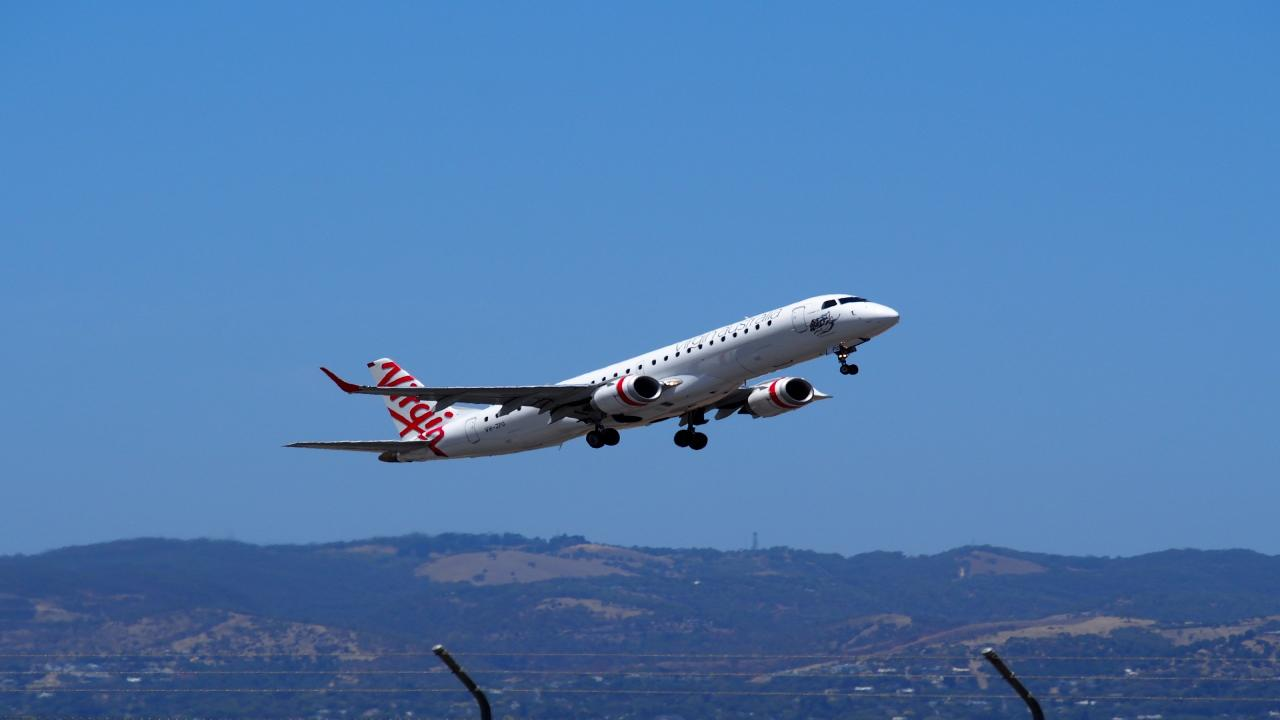Airplane: (268, 273, 920, 484)
